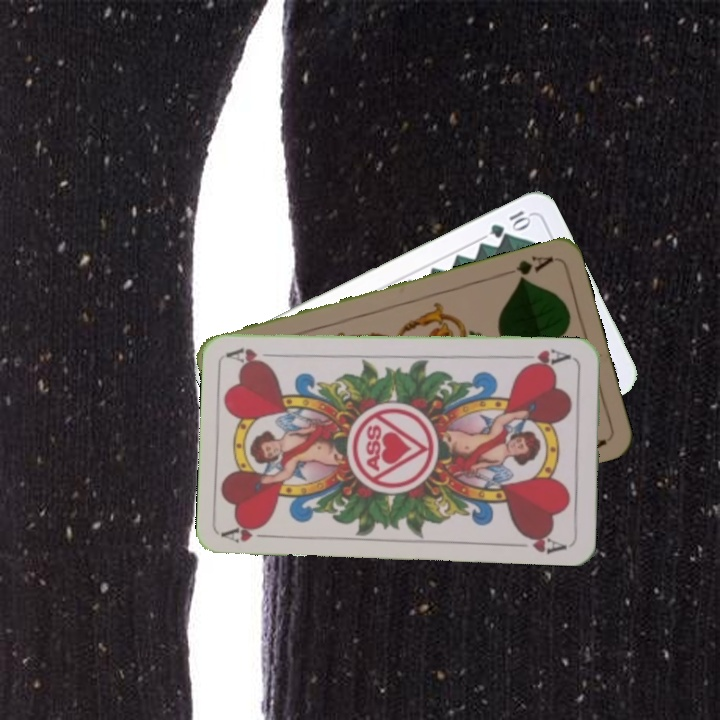G10: (486, 206, 534, 241)
GA: (498, 252, 557, 284)
HA: (221, 519, 280, 546), (517, 345, 576, 371)
